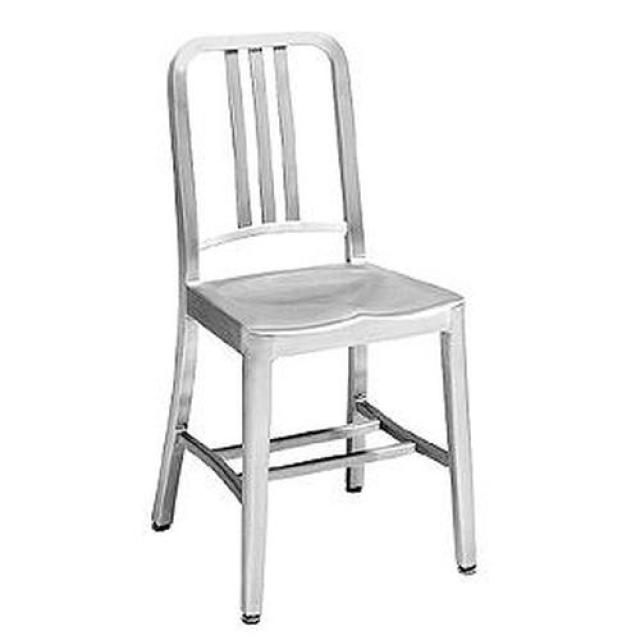chair: (152, 32, 480, 627)
